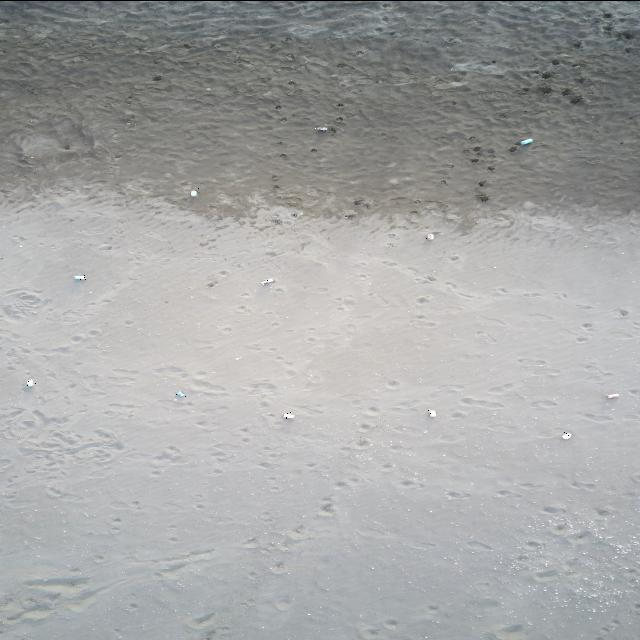Garbage: (517, 138, 532, 144), (313, 125, 326, 131), (260, 278, 273, 284), (562, 431, 571, 439), (26, 379, 35, 387), (74, 273, 84, 280), (283, 412, 292, 419), (607, 392, 619, 397), (427, 408, 435, 415), (176, 391, 186, 396), (426, 233, 433, 240), (190, 188, 196, 196)
